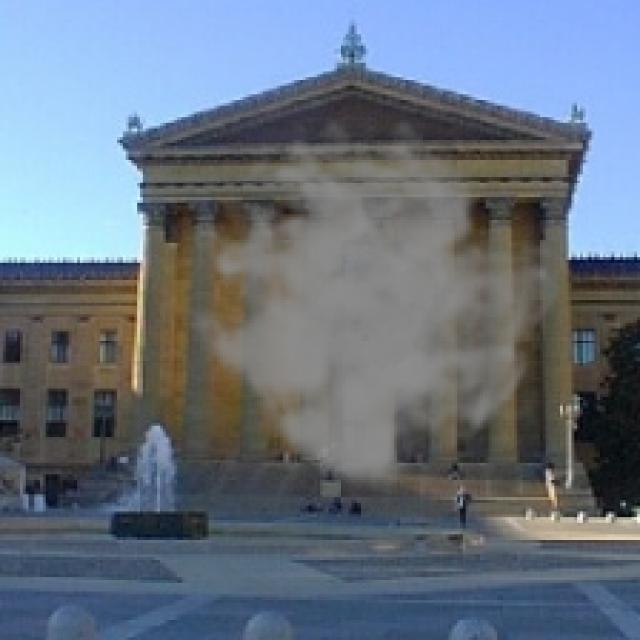smoke: (174, 117, 569, 494)
